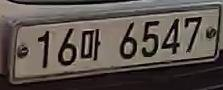1: (34, 29, 55, 70)
4: (160, 17, 182, 56)
5: (140, 19, 161, 60)
6: (56, 26, 79, 68), (117, 21, 141, 61)
7: (182, 15, 204, 54)
마: (79, 27, 104, 63)
